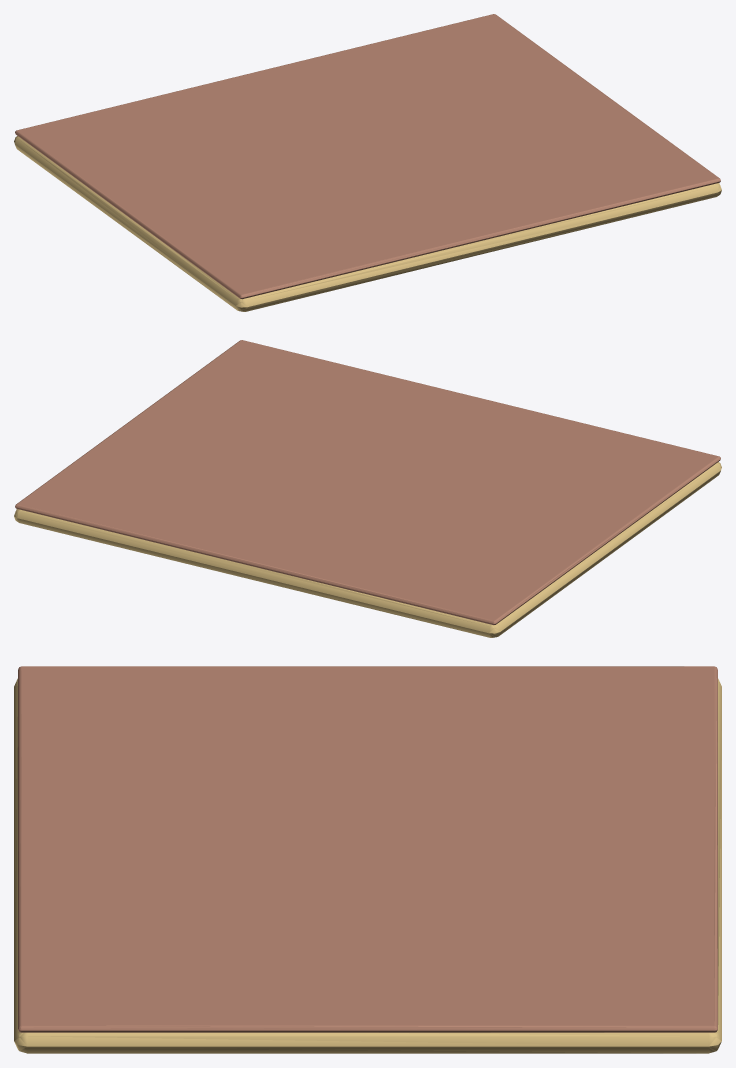
The model's file is DW_Island_6.fbx.
3 views of the same model, one above another, from view 1: azimuth 30°, elevation 25°; view 2: azimuth 150°, elevation 25°; view 3: azimuth 270°, elevation 25° (orthographic). The views are drawn at different scales.
Visible parts, largest first — view 1: Island_6; view 2: Island_6; view 3: Island_6.
Boxes of the visible parts, x1=… form: Island_6: x1=14, y1=14, x2=721, y2=311; Island_6: x1=14, y1=340, x2=721, y2=637; Island_6: x1=14, y1=666, x2=721, y2=1053.
Size of the model in its own units: 22 by 0.84 by 18.
